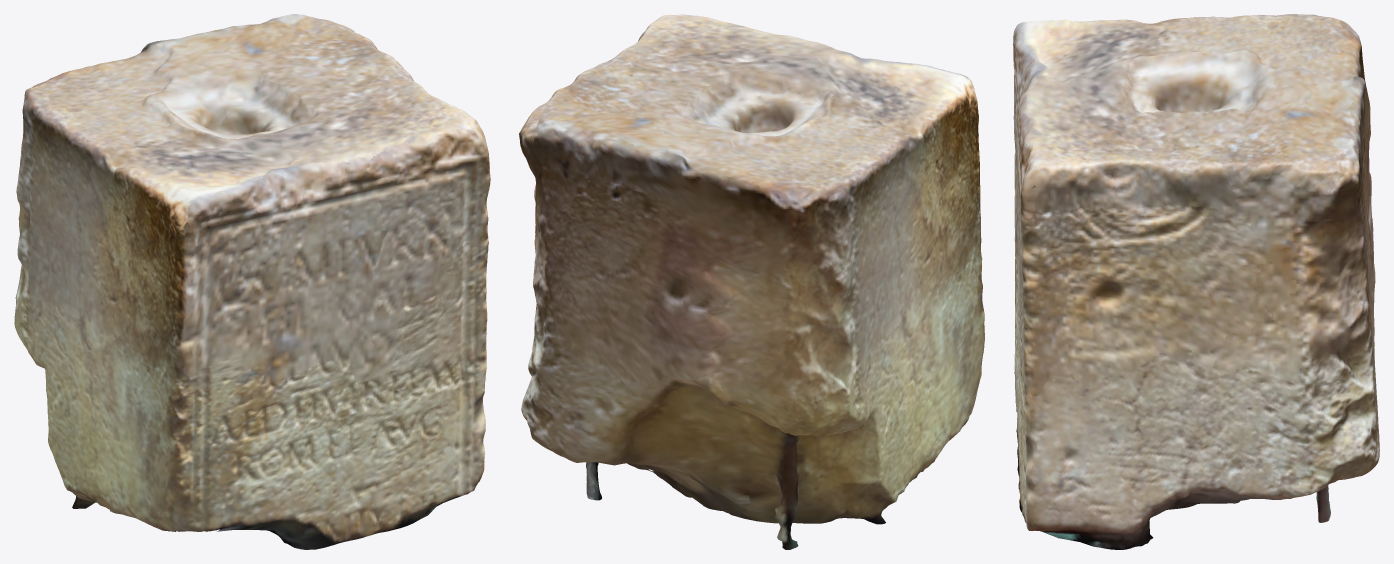
Rendered from roman_honorary_pedestal_ancient_sign_ruin.glb.
3 renders of one model, left to right at view 1: azimuth 30°, elevation 25°; view 2: azimuth 150°, elevation 25°; view 3: azimuth 270°, elevation 25°, orthographic. The views are drawn at different scales.
Visible parts, largest first — view 1: Object_5, Object_4, Object_2, Object_3, Object_6; view 2: Object_2, Object_5, Object_6, Object_3, Object_4; view 3: Object_3, Object_4, Object_6, Object_2, Object_5.
Boxes of the visible parts, x1,y1,x2,y2 form: Object_5: (14,14,490,512); Object_4: (23,40,467,549); Object_2: (15,44,485,544); Object_3: (94,32,490,531); Object_6: (18,14,488,531); Object_2: (519,44,980,549); Object_5: (519,15,945,528); Object_6: (521,14,911,523); Object_3: (554,16,984,410); Object_4: (523,17,981,523); Object_3: (1014,50,1312,549); Object_4: (1014,14,1372,535); Object_6: (1015,22,1379,472); Object_2: (1013,19,1375,549); Object_5: (1013,23,1370,486).
Size of the model in its own units: 0.615 by 0.6802 by 0.5786.
1 material, 1 textured.
